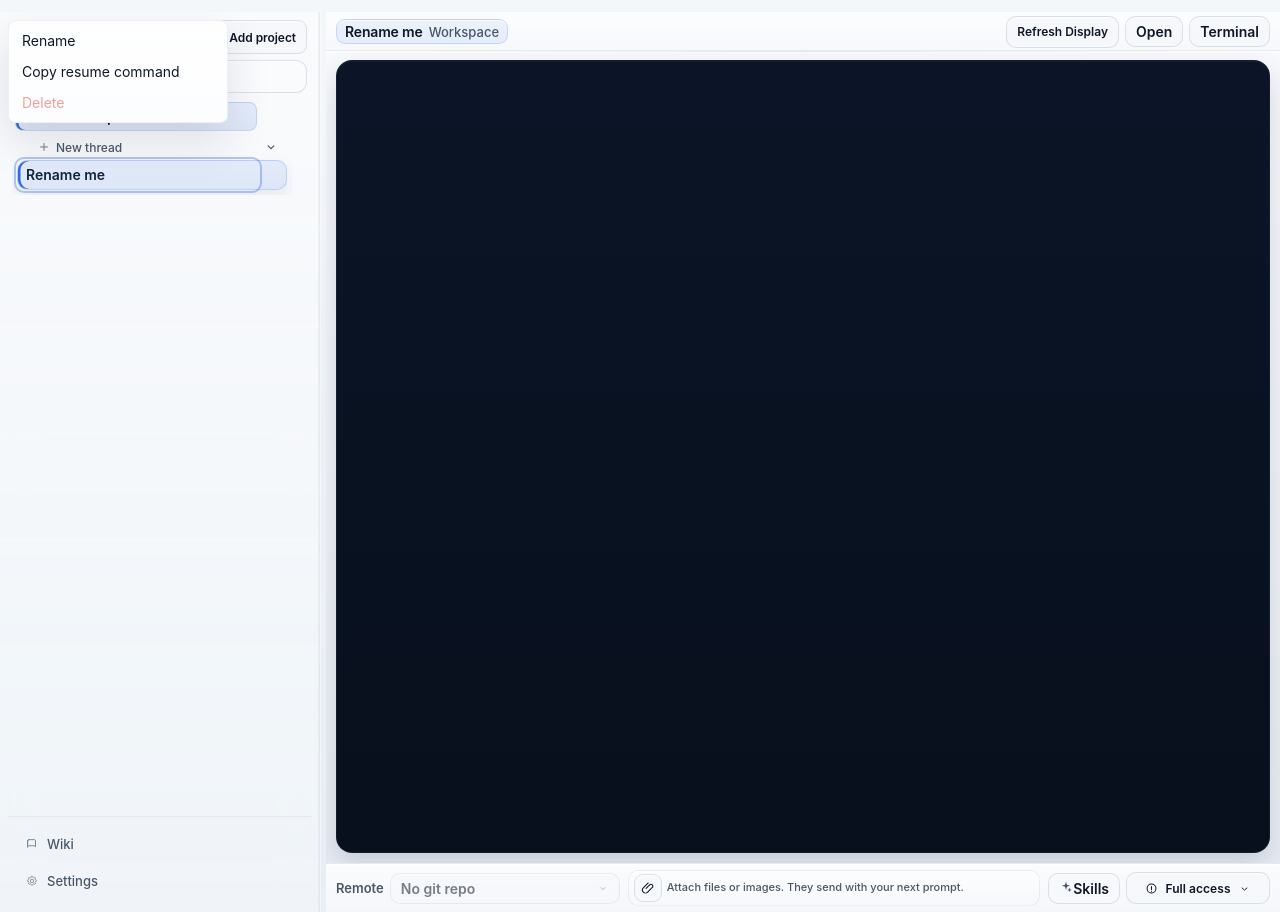
Scenario: Thread actions › supports delete from context menu
What coordinates should you click on to do the following:
click the button "Delete"
I would click on:
 (118, 102)
Its box is top-left (13, 87), bottom-right (223, 118).
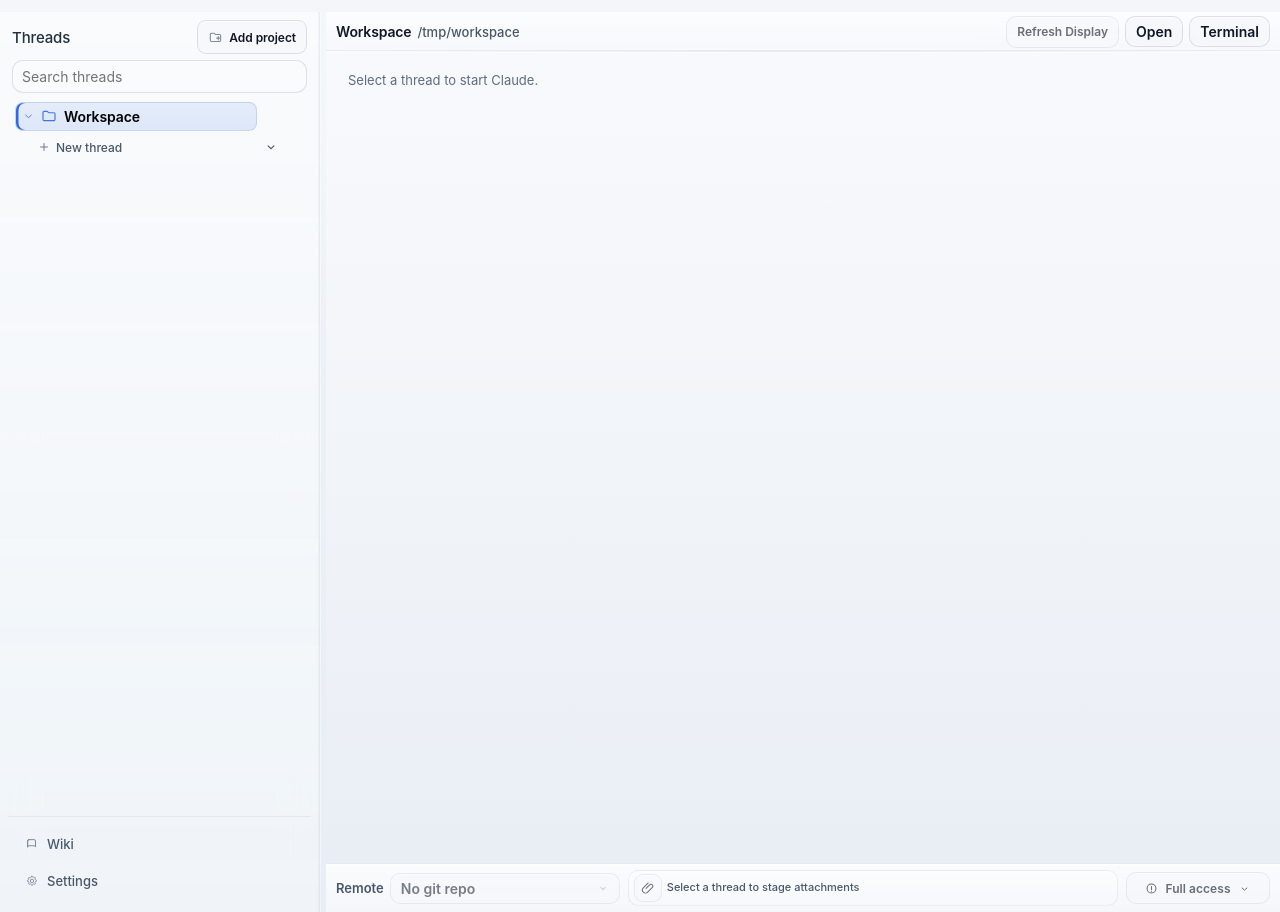
Expected: the button "Rename me" is gone
